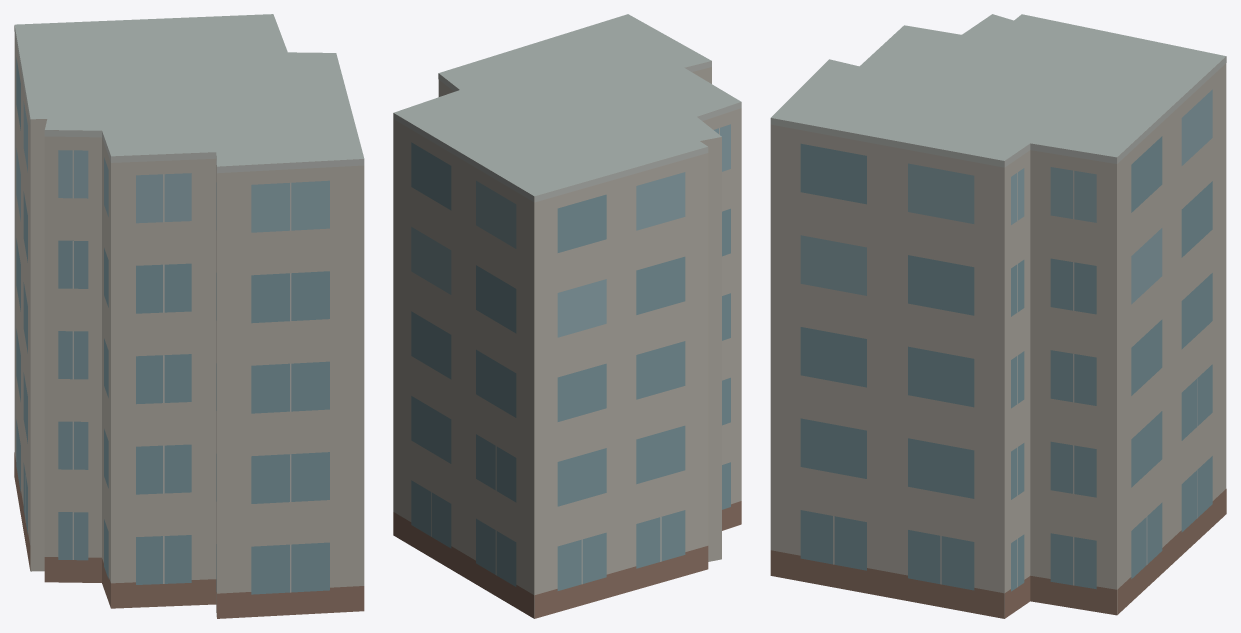
File: survey-upis-32477233.glb
The picture shows the model from 3 angles, left to right: view 1: azimuth 30°, elevation 25°; view 2: azimuth 150°, elevation 25°; view 3: azimuth 270°, elevation 25°; orthographic projection. The views are drawn at different scales.
Parts seen in each view (by area): view 1: survey-upis-32477233.tmp; view 2: survey-upis-32477233.tmp; view 3: survey-upis-32477233.tmp.
Boxes of the visible parts, box(x1,y1,x2,y2) form: survey-upis-32477233.tmp: box(14, 14, 364, 618); survey-upis-32477233.tmp: box(393, 14, 741, 618); survey-upis-32477233.tmp: box(770, 14, 1226, 618).
Bounding box in the file's own units: 11.5 × 16.7 × 15.08.
